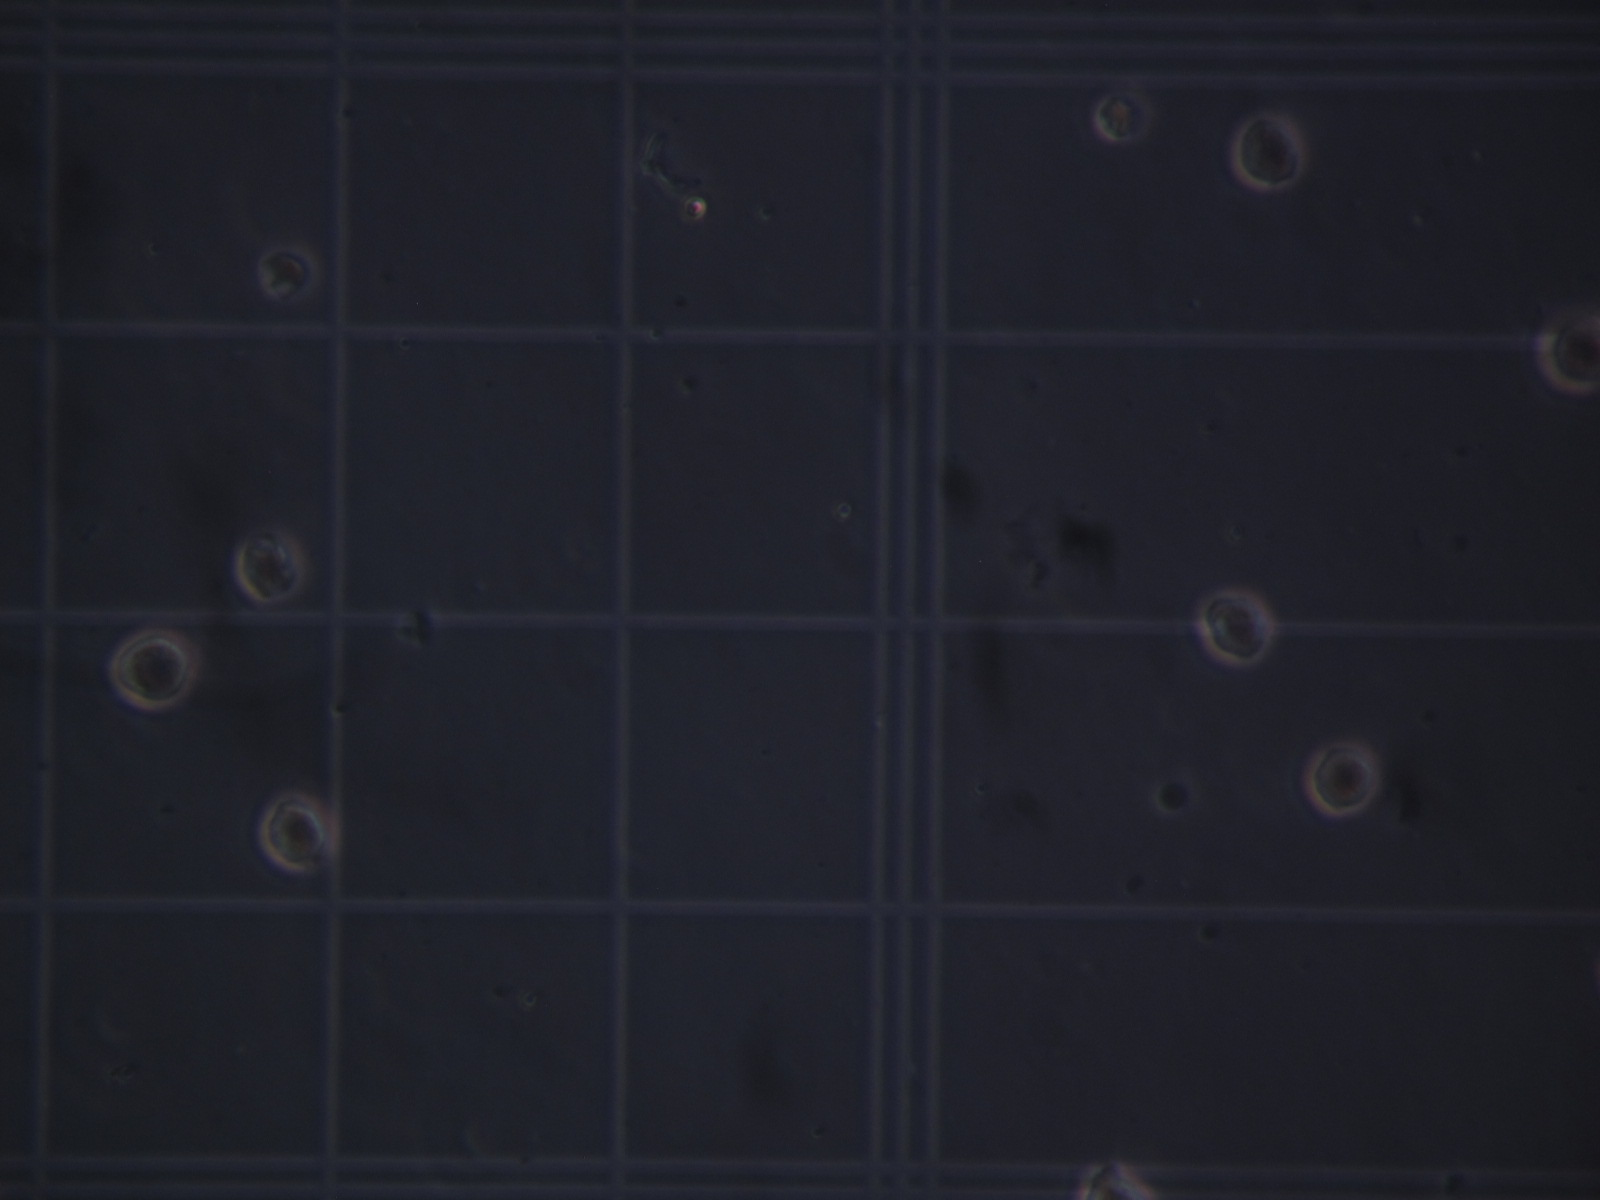hemo: (112, 626, 197, 708), (1196, 586, 1283, 666), (260, 789, 336, 870), (232, 524, 307, 605), (1232, 113, 1309, 192), (1309, 737, 1382, 819), (1531, 315, 1600, 400), (1091, 95, 1160, 149), (260, 247, 319, 303), (1076, 1161, 1140, 1200)
